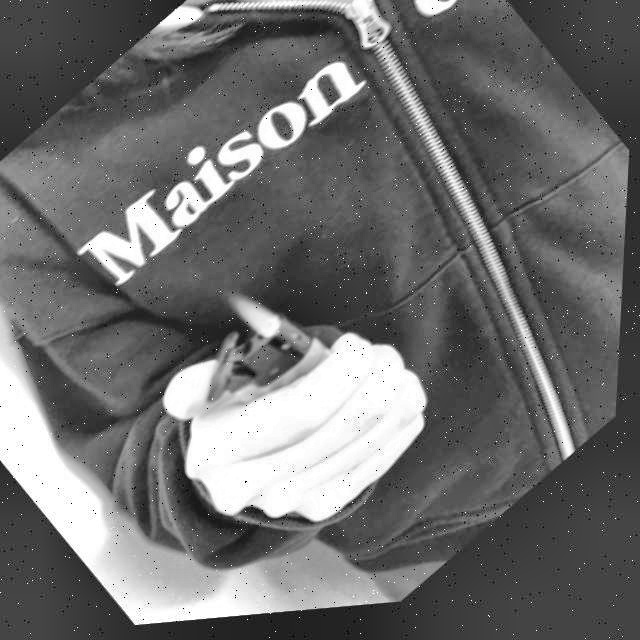Fire: (225, 282, 291, 353)
